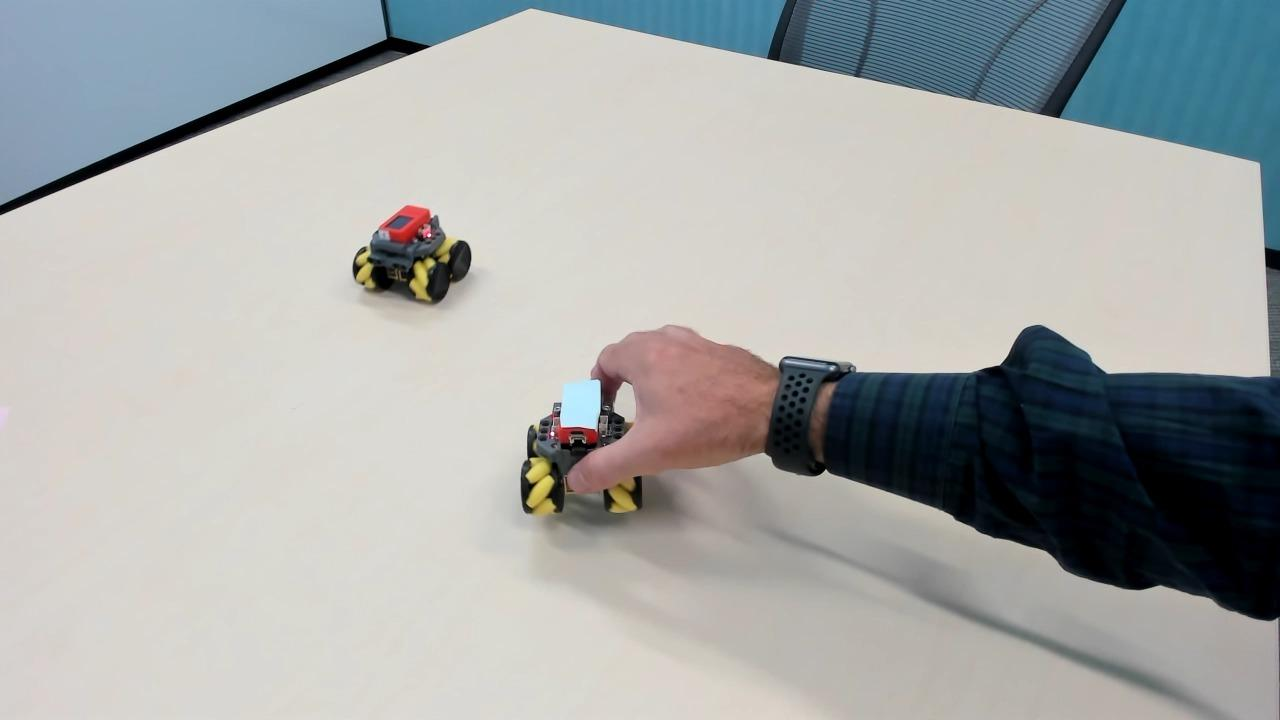B-Robot: (511, 379, 661, 538)
R-Robot: (336, 195, 485, 316)
